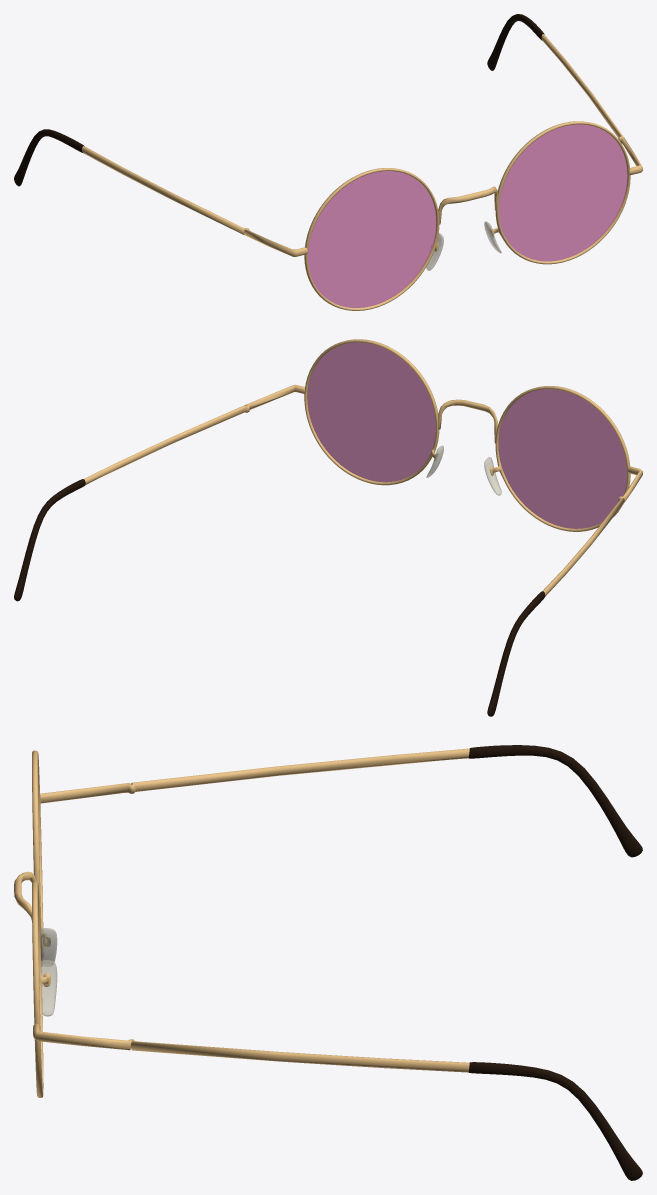
Rendered from glasses5.glb.
3 views of the same model, one above another, from view 1: azimuth 30°, elevation 25°; view 2: azimuth 150°, elevation 25°; view 3: azimuth 270°, elevation 25° (orthographic). The views are drawn at different scales.
Parts seen in each view (by area): view 1: Cylinder.002_PinkGlass_0, Cube.001_Gold_0, Cylinder.001_Gold_0, Cube.001_BrownPlastic_0, Cylinder.003_WhitePlastic_0; view 2: Cylinder.002_PinkGlass_0, Cube.001_Gold_0, Cylinder.001_Gold_0, Cube.001_BrownPlastic_0, Cylinder.003_WhitePlastic_0; view 3: Cube.001_Gold_0, Cube.001_BrownPlastic_0, Cylinder.001_Gold_0, Cylinder.003_WhitePlastic_0.
Boxes of the visible parts, x1=… form: Cylinder.002_PinkGlass_0: x1=308, y1=124, x2=627, y2=307; Cube.001_Gold_0: x1=82, y1=34, x2=642, y2=256; Cylinder.001_Gold_0: x1=304, y1=121, x2=630, y2=310; Cube.001_BrownPlastic_0: x1=14, y1=14, x2=544, y2=186; Cylinder.003_WhitePlastic_0: x1=426, y1=221, x2=501, y2=270; Cylinder.002_PinkGlass_0: x1=307, y1=342, x2=626, y2=528; Cube.001_Gold_0: x1=84, y1=385, x2=642, y2=596; Cylinder.001_Gold_0: x1=304, y1=339, x2=630, y2=531; Cube.001_BrownPlastic_0: x1=14, y1=479, x2=545, y2=716; Cylinder.003_WhitePlastic_0: x1=426, y1=445, x2=501, y2=495; Cube.001_Gold_0: x1=14, y1=748, x2=469, y2=1072; Cube.001_BrownPlastic_0: x1=468, y1=745, x2=642, y2=1180; Cylinder.001_Gold_0: x1=32, y1=750, x2=50, y2=1097; Cylinder.003_WhitePlastic_0: x1=40, y1=928, x2=57, y2=1016.
Size of the model in its own units: 1.52 by 0.4252 by 1.23.
